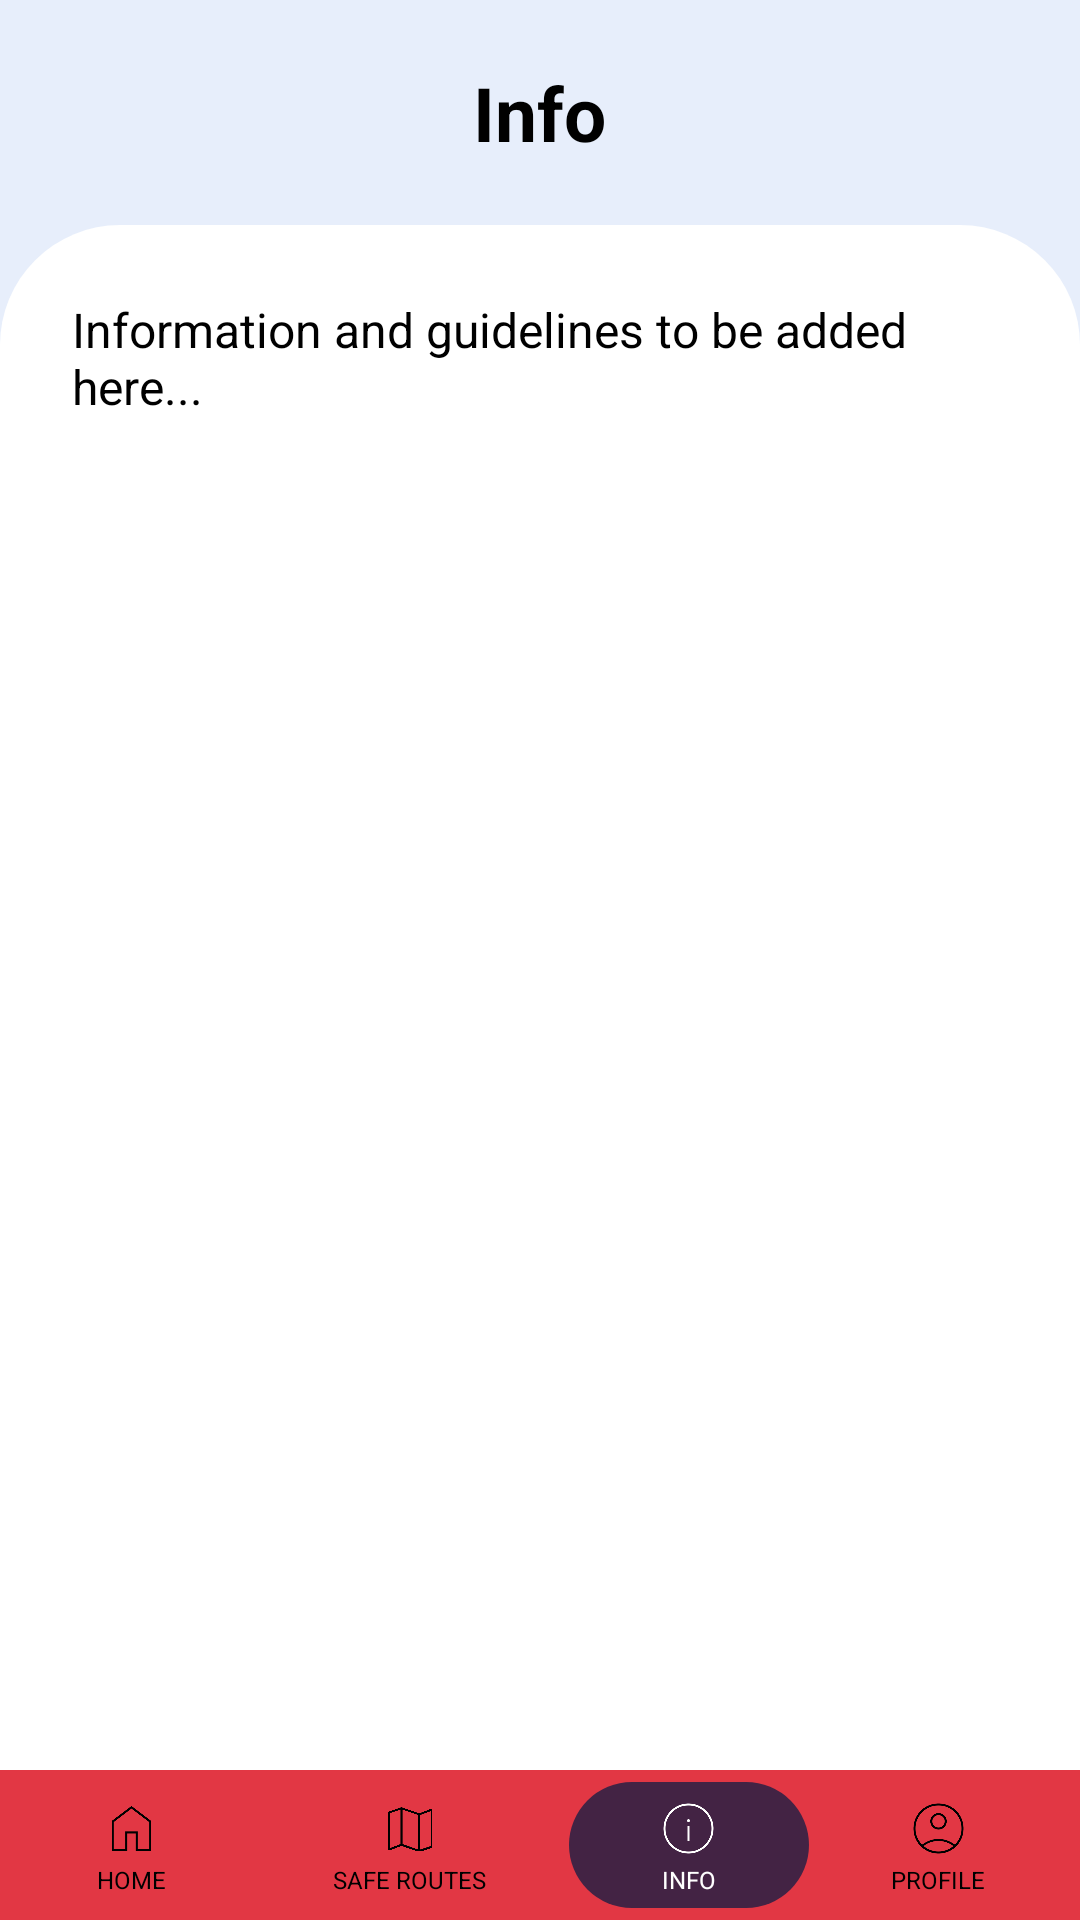

Icons on this 1080×1920 Android screen, each with its box as (x1, y1, x2, y2):
map: (388, 1807, 432, 1851)
